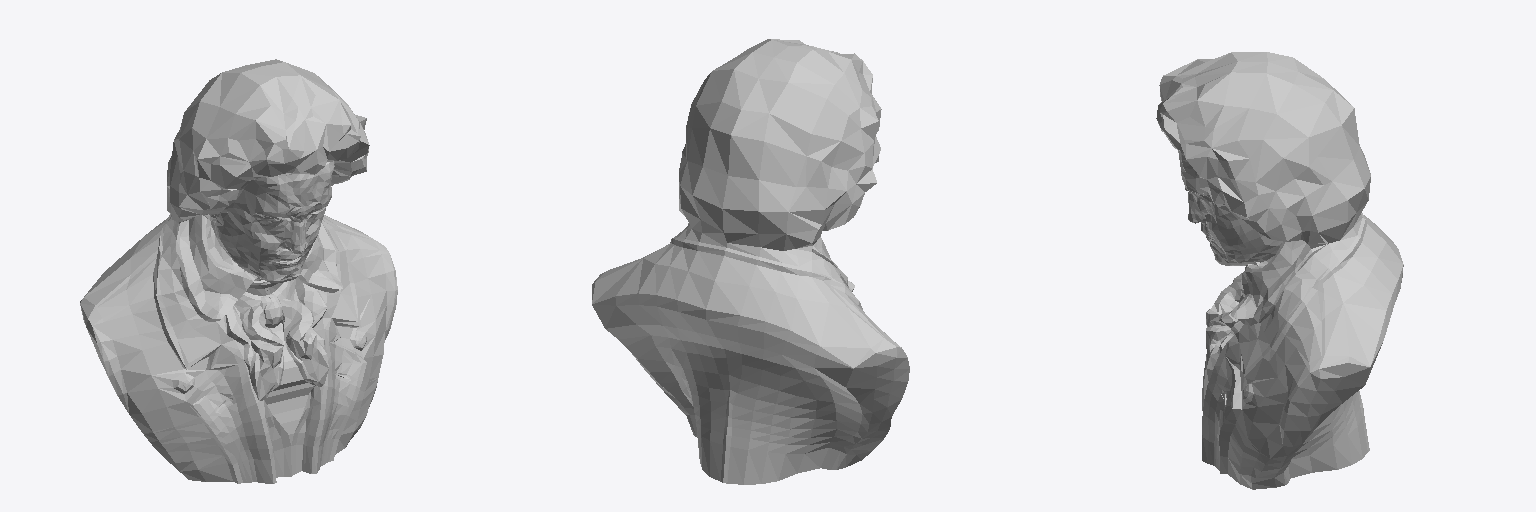
The model's file is beethovan_bust.obj.
The picture shows the model from 3 angles: view 1: azimuth 30°, elevation 25°; view 2: azimuth 150°, elevation 25°; view 3: azimuth 270°, elevation 25°; orthographic projection.
Parts seen in each view (by area): view 1: face_; view 2: face_; view 3: face_.
Part boxes in pixels (left/top/right/bottom): face_: left=80, top=59, right=397, bottom=483; face_: left=592, top=39, right=909, bottom=484; face_: left=1156, top=52, right=1403, bottom=489.
Size of the model in its own units: 9.3 by 11.58 by 6.67.